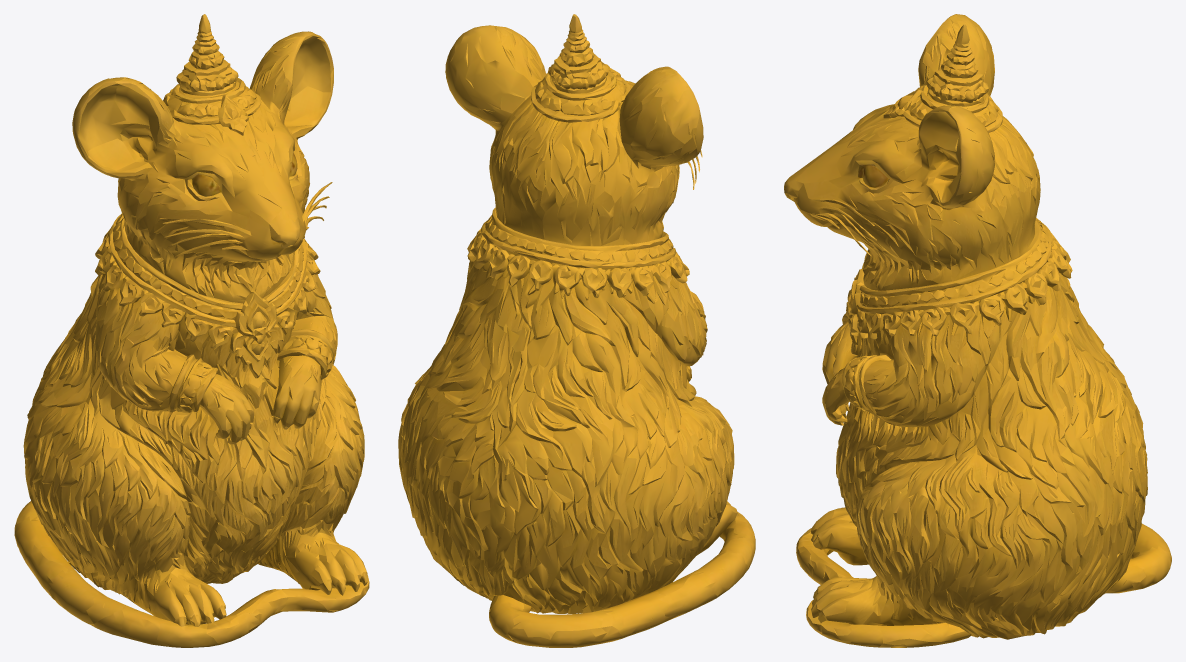
Rendered from thu.glb.
3 views of the same model, side by side, from view 1: azimuth 30°, elevation 25°; view 2: azimuth 150°, elevation 25°; view 3: azimuth 270°, elevation 25° (orthographic). The views are drawn at different scales.
Parts seen in each view (by area): view 1: Mesh_0; view 2: Mesh_0; view 3: Mesh_0.
Boxes of the visible parts, bbox=[...] form: Mesh_0: bbox=[14, 14, 369, 647]; Mesh_0: bbox=[398, 14, 755, 647]; Mesh_0: bbox=[784, 14, 1171, 647].
Bounding box in the file's own units: 1.08 × 1.9 × 1.17.
1 material, 1 textured.
